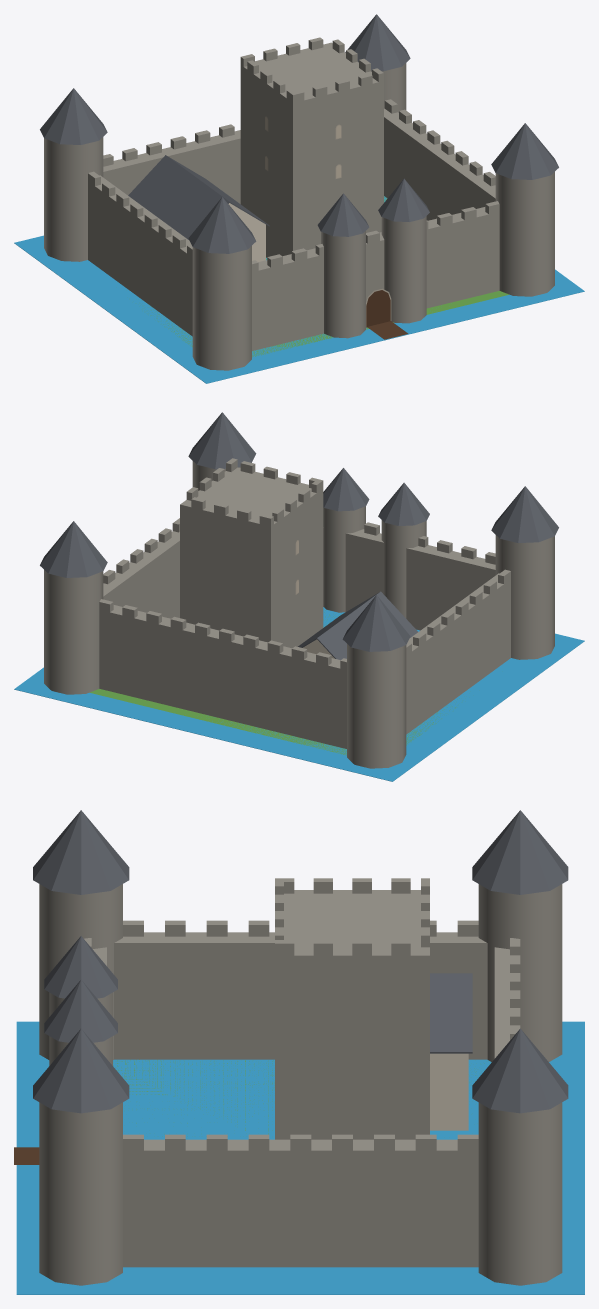
Rendered from chateau_fort_enceinte.glb.
3 views of the same model, one above another, from view 1: azimuth 30°, elevation 25°; view 2: azimuth 150°, elevation 25°; view 3: azimuth 270°, elevation 25° (orthographic). The views are drawn at different scales.
Visible parts, largest first — view 1: chateau_fort_enceinte; view 2: chateau_fort_enceinte; view 3: chateau_fort_enceinte.
Part boxes in pixels (x1,y1,x2,y2): chateau_fort_enceinte: (14, 14, 584, 383); chateau_fort_enceinte: (14, 412, 584, 781); chateau_fort_enceinte: (14, 810, 584, 1294).
Size of the model in its own units: 50 by 23 by 44.2.
1 material, 1 textured.
